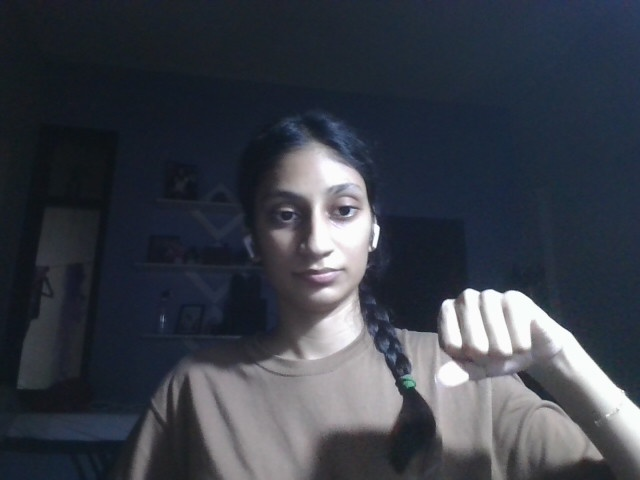yes: (419, 285, 561, 391)
